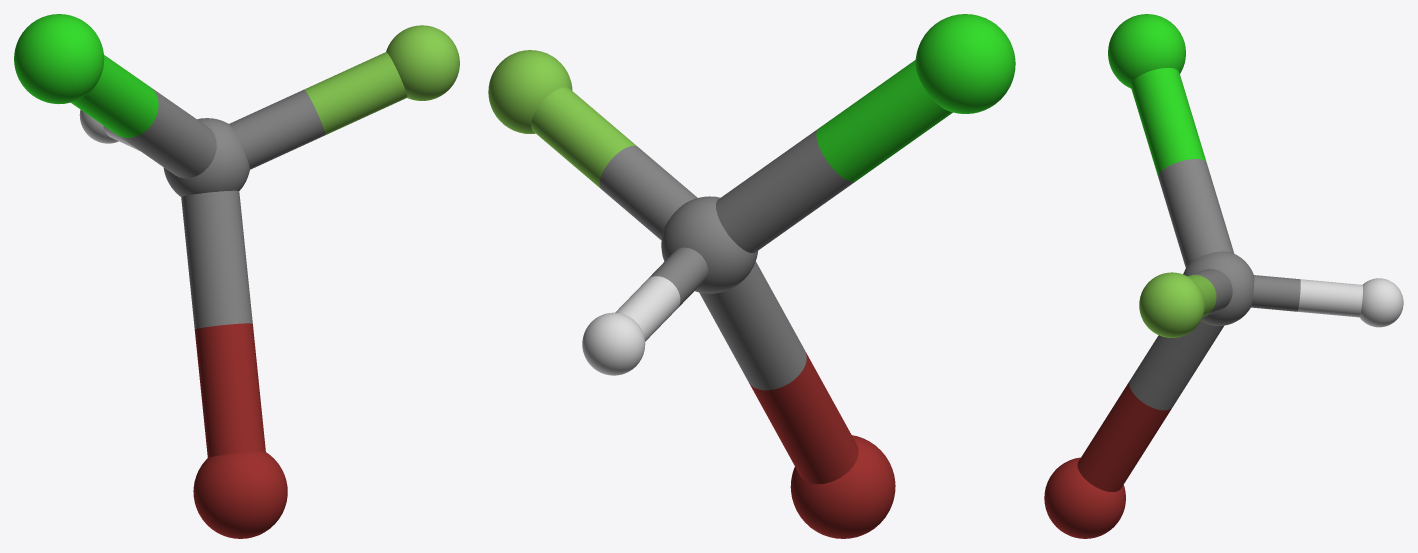
Rendered from R-BROMOCHLOROFLUOROMETHANE.MOL2.glb.
3 views of the same model, side by side, from view 1: azimuth 30°, elevation 25°; view 2: azimuth 150°, elevation 25°; view 3: azimuth 270°, elevation 25° (orthographic). The views are drawn at different scales.
Bounding box in the file's own units: 3.02 × 3.38 × 2.41.
